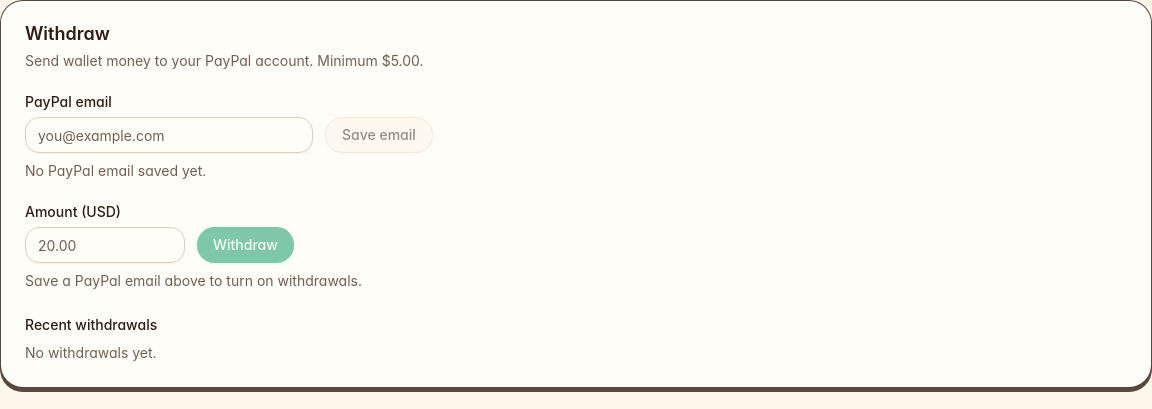
WithdrawCard › saves the email, then enables Withdraw
Type "me@example.com" into the field labelled "PayPal email" at x=169, y=135, box [25,117,313,153]
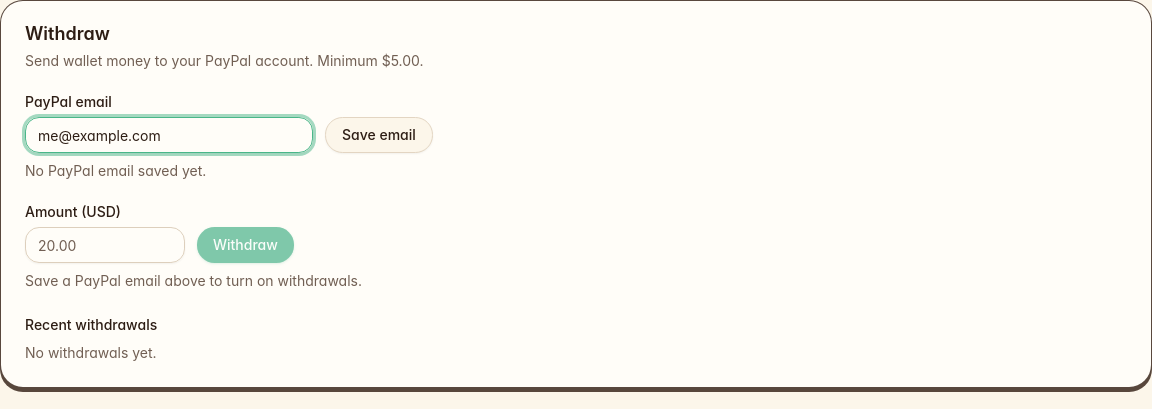
Click the button "Save email" at x=379, y=135, box [325,117,433,153]
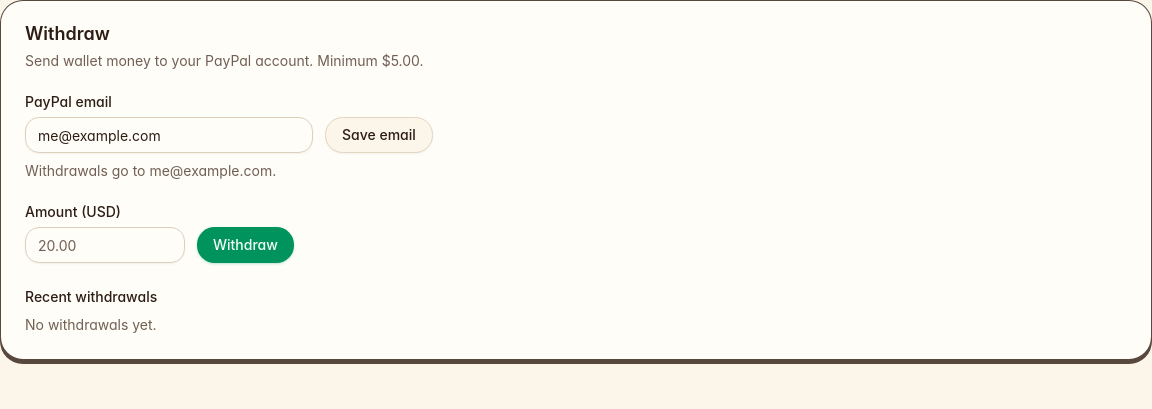
Result: the button "Withdraw" is enabled at [197,227,294,263]
Result: the text with test id "saved-email" reads "Withdrawals go to me@example.com." at [25,162,276,179]
